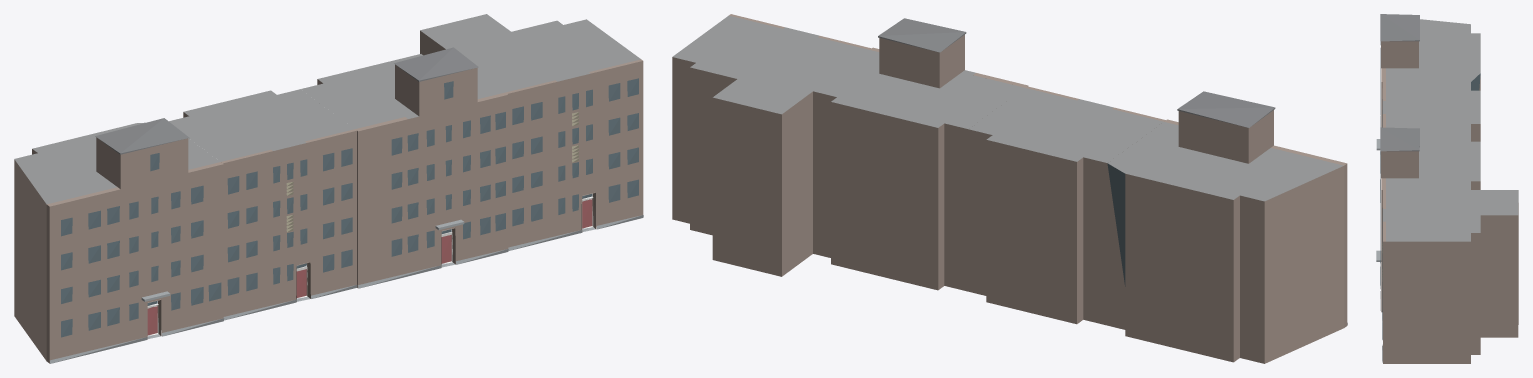
The model's file is chunk-face-luthuli-6-20.lod2.glb.
The picture shows the model from 3 angles, left to right: view 1: azimuth 30°, elevation 25°; view 2: azimuth 150°, elevation 25°; view 3: azimuth 270°, elevation 25°; orthographic projection. The views are drawn at different scales.
Visible parts, largest first — view 1: lod2; view 2: lod2; view 3: lod2.
Part boxes in pixels (box(x1,y1,x2,y2)): lod2: box(14, 14, 643, 363); lod2: box(672, 14, 1347, 363); lod2: box(1376, 14, 1518, 363).
Size of the model in its own units: 56.49 by 17.57 by 15.01.
